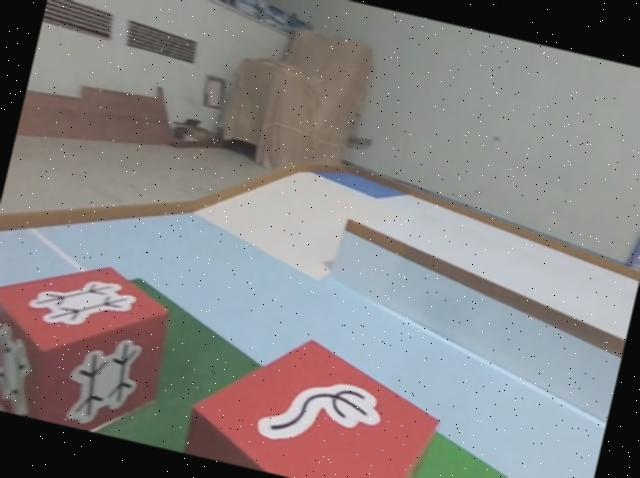R2 Real: (175, 306, 454, 478), (0, 234, 186, 444)
